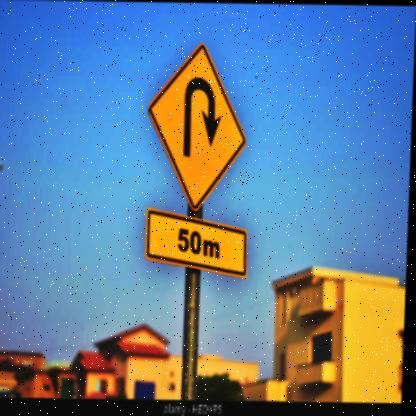U-turn: (143, 41, 252, 212)
